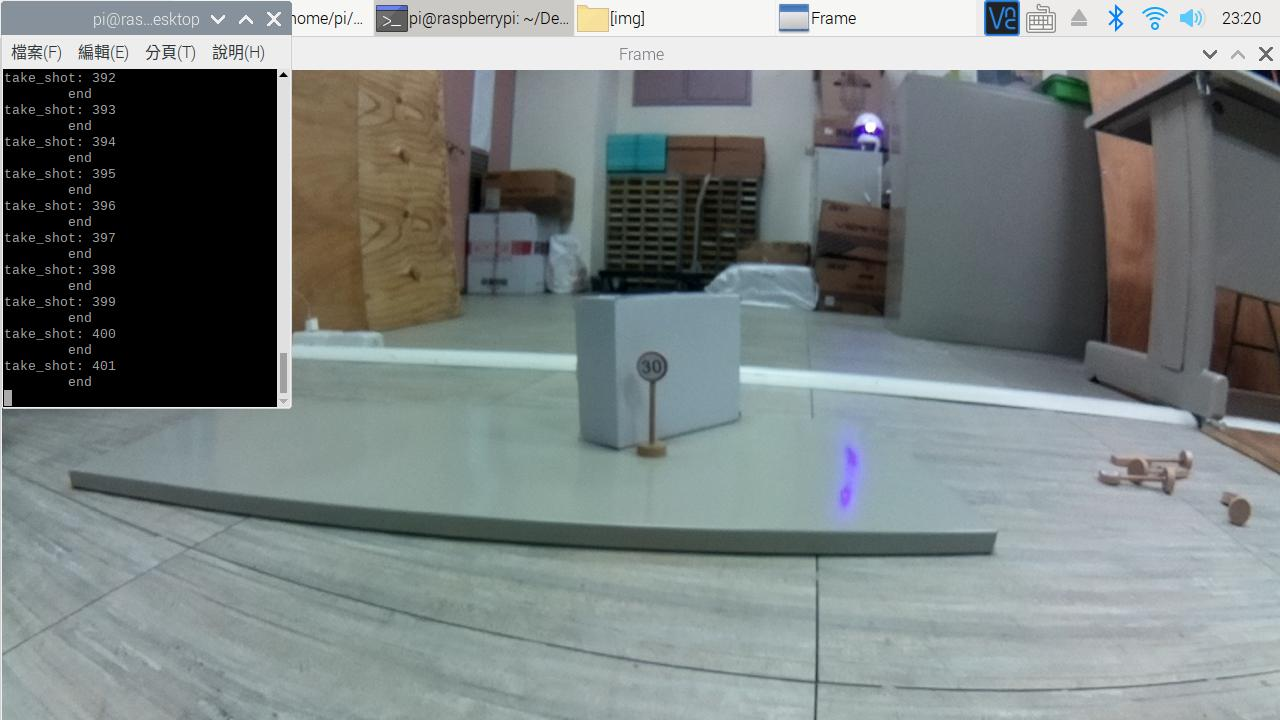Speed30: (617, 342, 695, 407)
